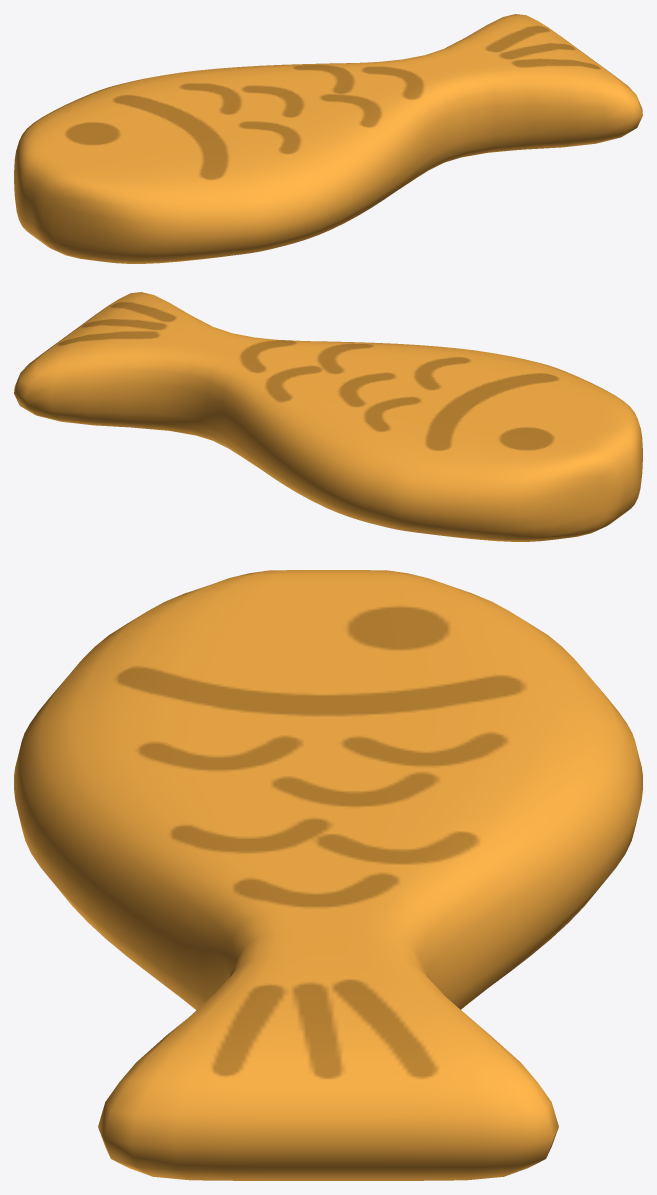
The model's file is food1.fbx.
The picture shows the model from 3 angles, top to bottom: view 1: azimuth 30°, elevation 25°; view 2: azimuth 150°, elevation 25°; view 3: azimuth 270°, elevation 25°; orthographic projection. The views are drawn at different scales.
Parts seen in each view (by area): view 1: Plane.005; view 2: Plane.005; view 3: Plane.005.
Boxes of the visible parts, x1,y1,x2,y2 form: Plane.005: [14, 14, 642, 263]; Plane.005: [14, 292, 642, 541]; Plane.005: [14, 570, 642, 1180].
Size of the model in its own units: 3.81 by 0.5139 by 1.94.
